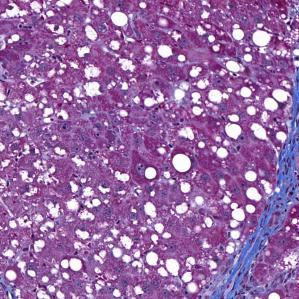fibrosis: (254, 148, 299, 277)
